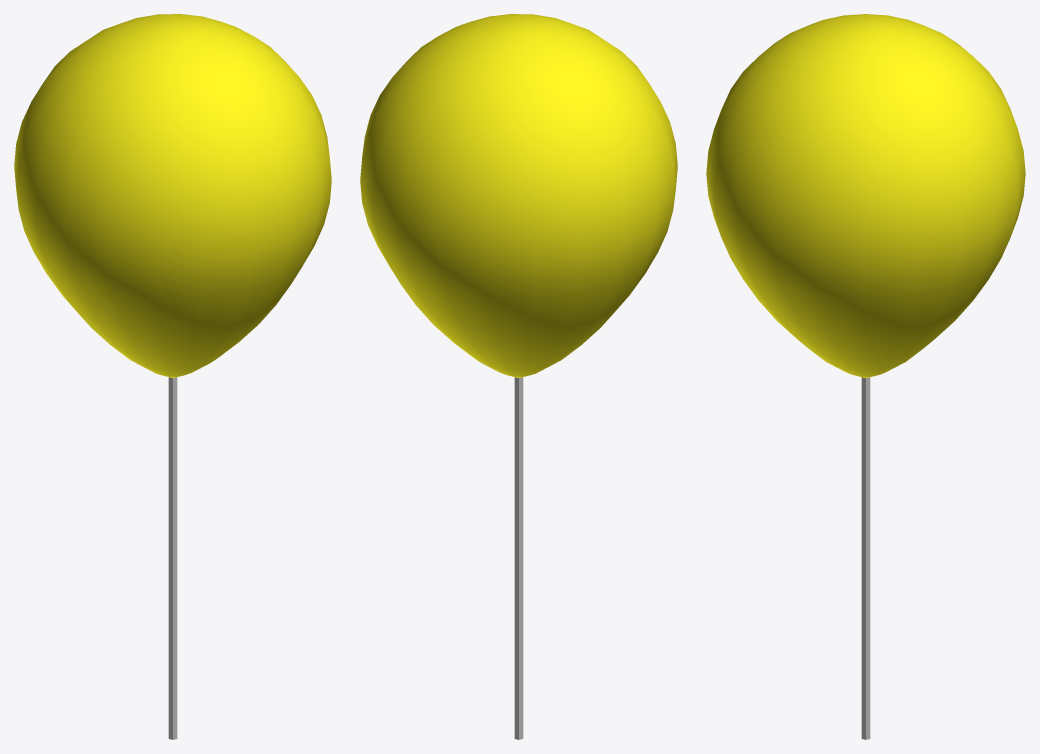
File: BALLOON 1.fbx
3 renders of one model, left to right at view 1: azimuth 30°, elevation 25°; view 2: azimuth 150°, elevation 25°; view 3: azimuth 270°, elevation 25°, orthographic.
Visible parts, largest first — view 1: pSphere3, pCylinder3; view 2: pSphere3, pCylinder3; view 3: pSphere3, pCylinder3.
Part boxes in pixels (bbox=[...]): pSphere3: bbox=[14, 14, 331, 377]; pCylinder3: bbox=[168, 377, 177, 739]; pSphere3: bbox=[360, 14, 677, 377]; pCylinder3: bbox=[514, 377, 523, 739]; pSphere3: bbox=[706, 14, 1025, 377]; pCylinder3: bbox=[861, 377, 870, 739].
Size of the model in its own units: 2 by 4.9 by 2.
Materials: 2 (1 with a texture image).
